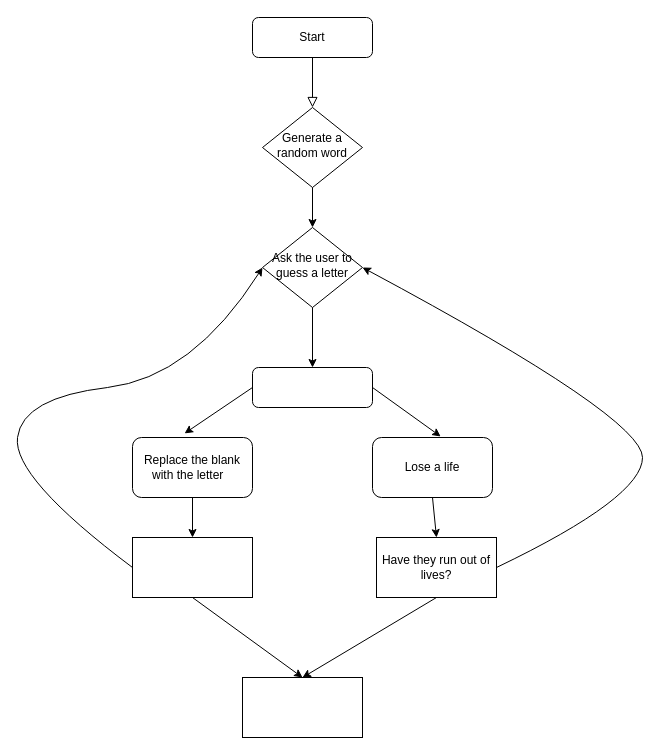
Image size: 661x755. Some labels were removed from this diagram. Here are the shapes that lost their labels. From the top down, the centre of each, then its label:
the point at 312,387: Is the guessed letter in the word?
the point at 192,567: Are all the blanks filled?
the point at 302,707: Game over
